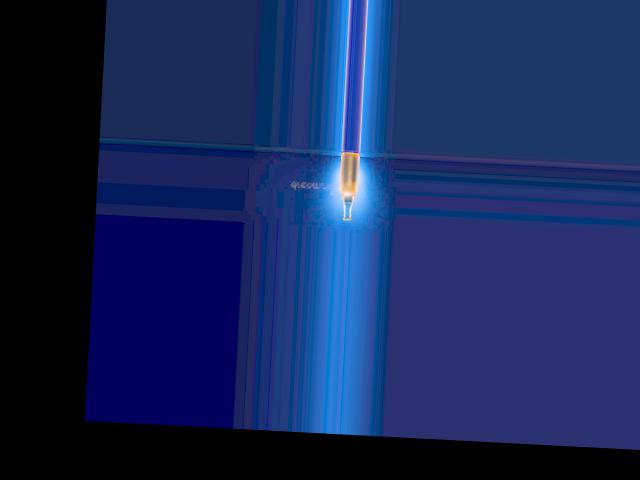beer: (338, 151, 361, 220)
